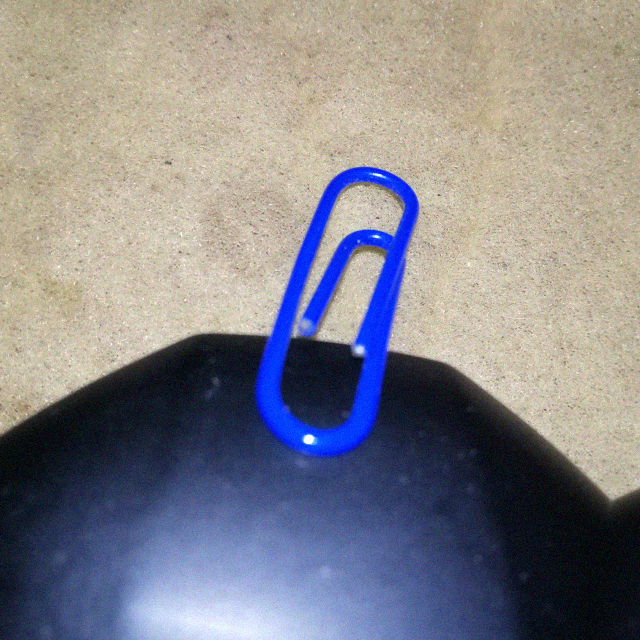pin: (250, 147, 426, 460)
